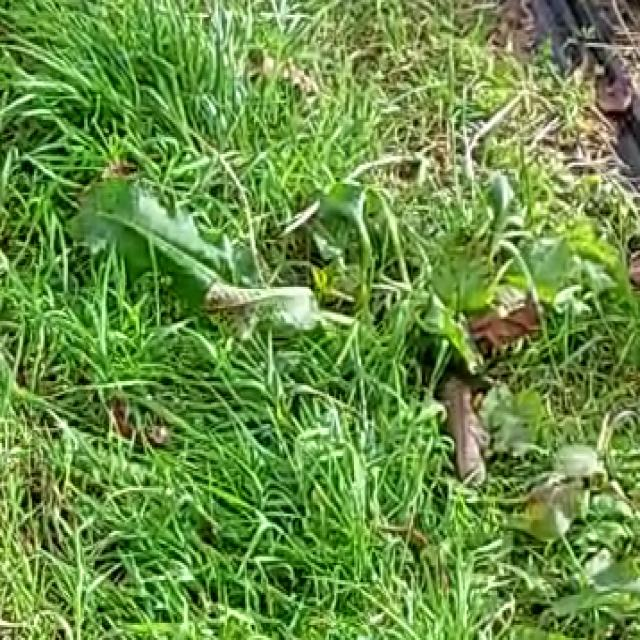organic waste: (66, 115, 599, 418)
